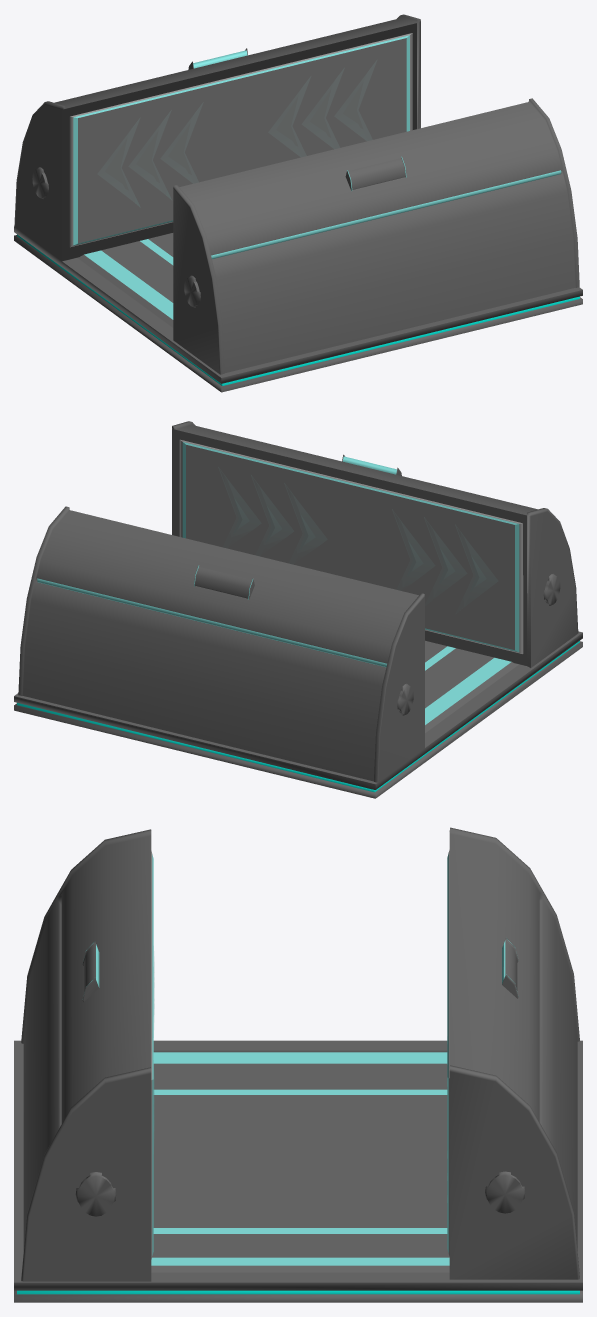
Rendered from MustWalkThisWay (2).fbx.
The picture shows the model from 3 angles, top to bottom: view 1: azimuth 30°, elevation 25°; view 2: azimuth 150°, elevation 25°; view 3: azimuth 270°, elevation 25°; orthographic projection. The views are drawn at different scales.
Visible parts, largest first — view 1: pCylinder5, pCylinder12, pCube14, pCube2, pCube6, pCylinder2, pCube3, pCube10; view 2: pCylinder12, pCylinder5, pCube11, pCube2, pCube6, pCylinder11, pCube3, pCube13; view 3: pCube6, pCylinder12, pCylinder5, pCube2, pCube3, pCylinder7, pCylinder15, pCube11, pCube14, pCube10, pCube13.
Boxes of the visible parts, <box> form: pCylinder5: <box>173,98,579,374</box>; pCylinder12: <box>14,14,420,261</box>; pCube14: <box>69,33,412,247</box>; pCube2: <box>14,226,582,392</box>; pCube6: <box>77,233,173,327</box>; pCylinder2: <box>211,170,561,259</box>; pCube3: <box>17,234,579,385</box>; pCube10: <box>345,156,406,191</box>; pCylinder12: <box>18,506,424,782</box>; pCylinder5: <box>172,421,578,667</box>; pCube11: <box>179,439,523,653</box>; pCube2: <box>14,631,582,798</box>; pCube6: <box>425,640,518,732</box>; pCylinder11: <box>37,578,386,667</box>; pCube3: <box>17,641,579,792</box>; pCube13: <box>194,565,254,599</box>; pCube6: <box>151,1050,449,1272</box>; pCylinder12: <box>449,827,579,1279</box>; pCylinder5: <box>21,829,151,1281</box>; pCube2: <box>14,1040,582,1302</box>; pCube3: <box>17,1290,579,1294</box>; pCylinder7: <box>75,1172,116,1216</box>; pCylinder15: <box>485,1171,525,1213</box>; pCube11: <box>151,851,153,1259</box>; pCube14: <box>447,850,449,1256</box>; pCube10: <box>82,941,99,1001</box>; pCube13: <box>502,938,518,998</box>.
Bounding box in the file's own units: 10.16 × 4.48 × 9.94.
